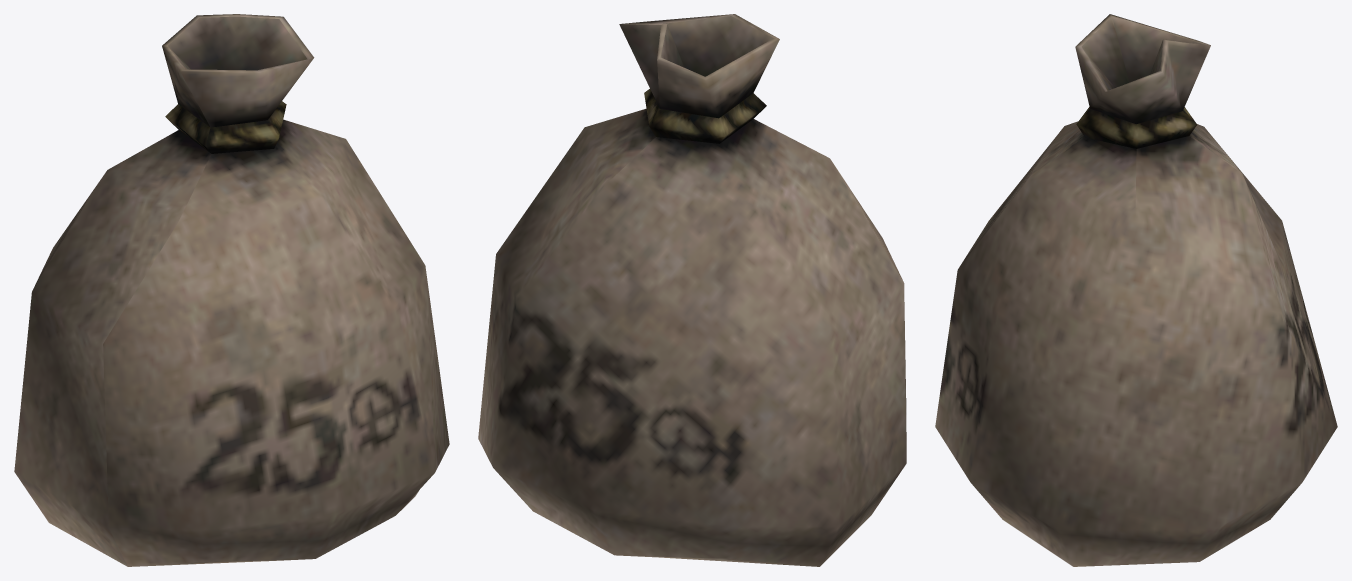
File: coins_medium.dae
3 views of the same model, side by side, from view 1: azimuth 30°, elevation 25°; view 2: azimuth 150°, elevation 25°; view 3: azimuth 270°, elevation 25° (orthographic). The views are drawn at different scales.
Parts seen in each view (by area): view 1: coins_medium; view 2: coins_medium; view 3: coins_medium.
Boxes of the visible parts, <box> form: coins_medium: <box>14,14,449,566</box>; coins_medium: <box>478,14,906,566</box>; coins_medium: <box>935,14,1337,566</box>.
Bounding box in the file's own units: 0.1453 × 0.1954 × 0.1471.
